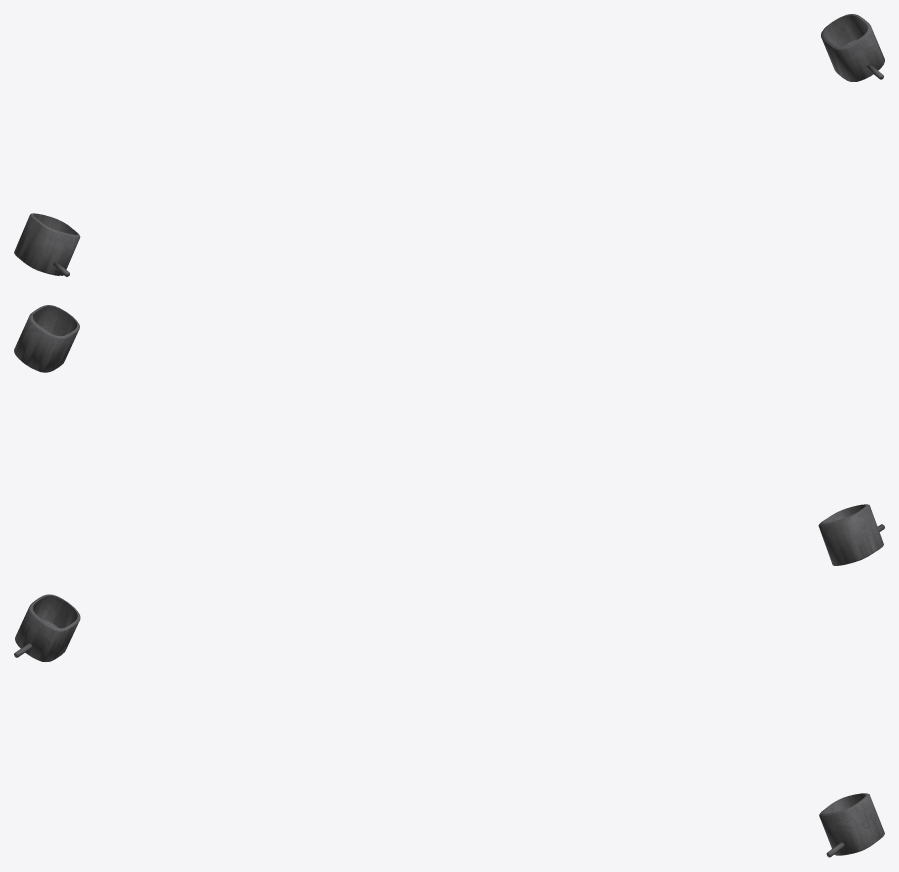
File: skatepark.fbx_lamps_graffity_dog.fbx
3 views of the same model, one above another, from view 1: azimuth 30°, elevation 25°; view 2: azimuth 150°, elevation 25°; view 3: azimuth 330°, elevation 25° (orthographic).
Visible parts, largest first — view 1: Lamp_Grafitti12, Lamp_Graffiti11; view 2: Lamp_Grafitti12, Lamp_Graffiti11; view 3: Lamp_Graffiti11, Lamp_Grafitti12.
Part boxes in pixels (x1=…): Lamp_Grafitti12: x1=821, y1=14, x2=884, y2=81; Lamp_Graffiti11: x1=14, y1=213, x2=80, y2=276; Lamp_Grafitti12: x1=14, y1=305, x2=79, y2=372; Lamp_Graffiti11: x1=818, y1=504, x2=884, y2=565; Lamp_Graffiti11: x1=14, y1=594, x2=80, y2=661; Lamp_Grafitti12: x1=819, y1=793, x2=884, y2=857.
Size of the model in its own units: 453 by 26.86 by 36.42.
1 material, 1 textured.
